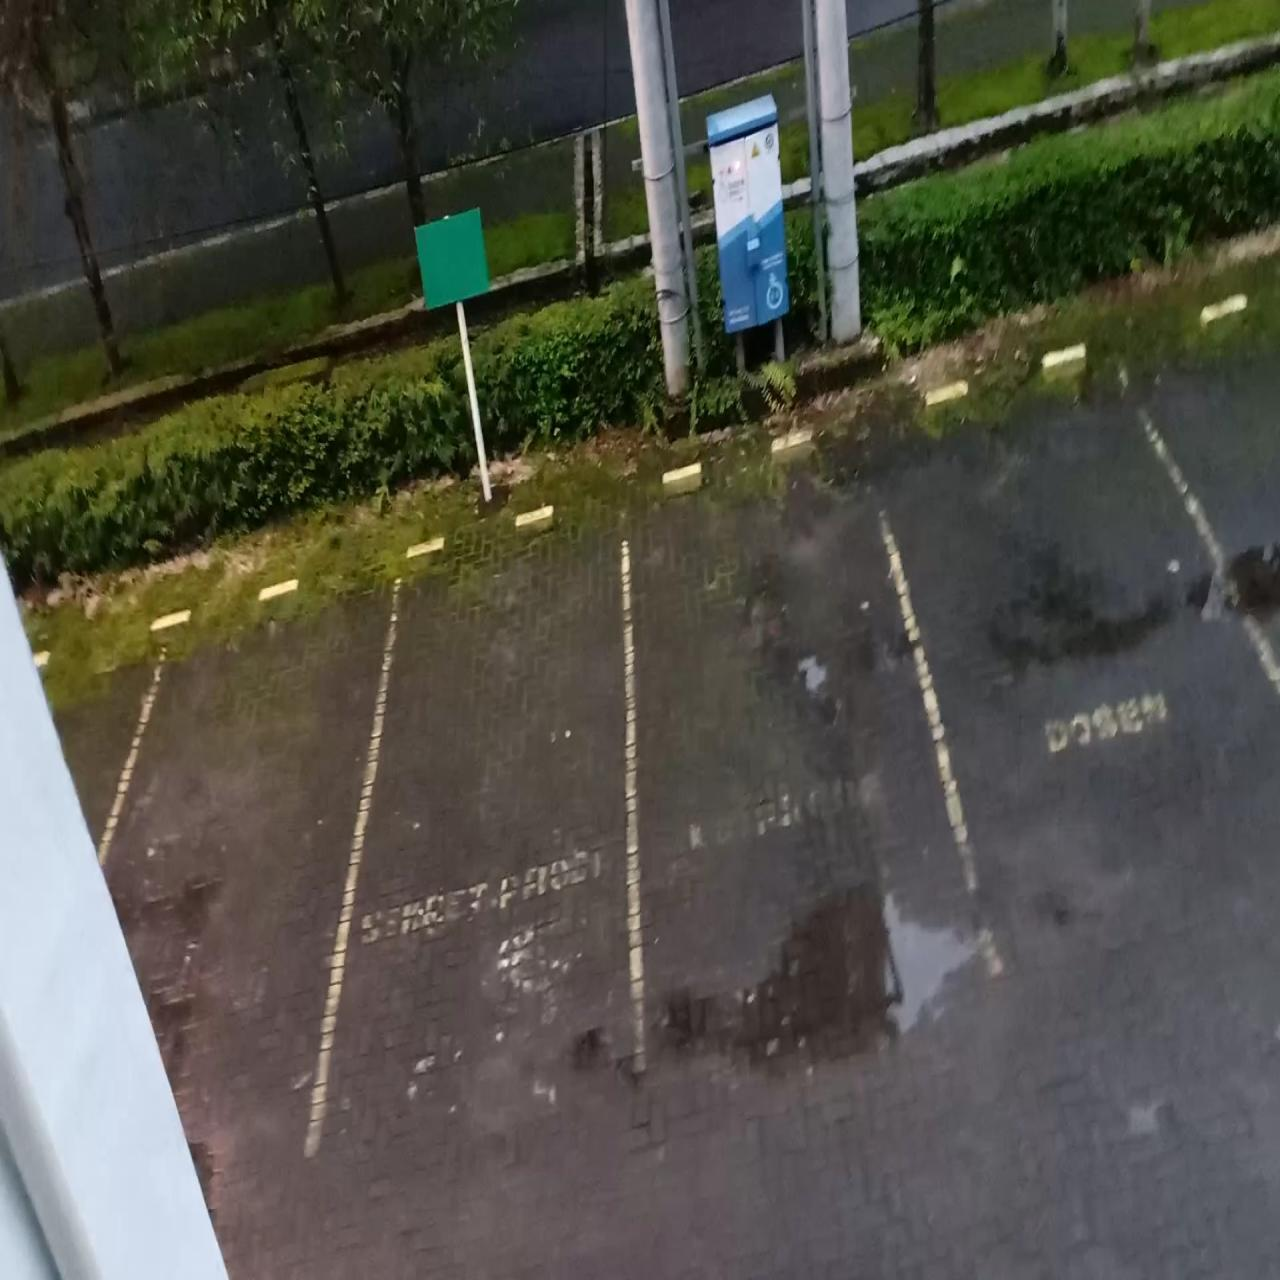empty: (919, 333, 1224, 968), (621, 424, 921, 1059), (365, 513, 644, 1069), (143, 566, 376, 1141)
